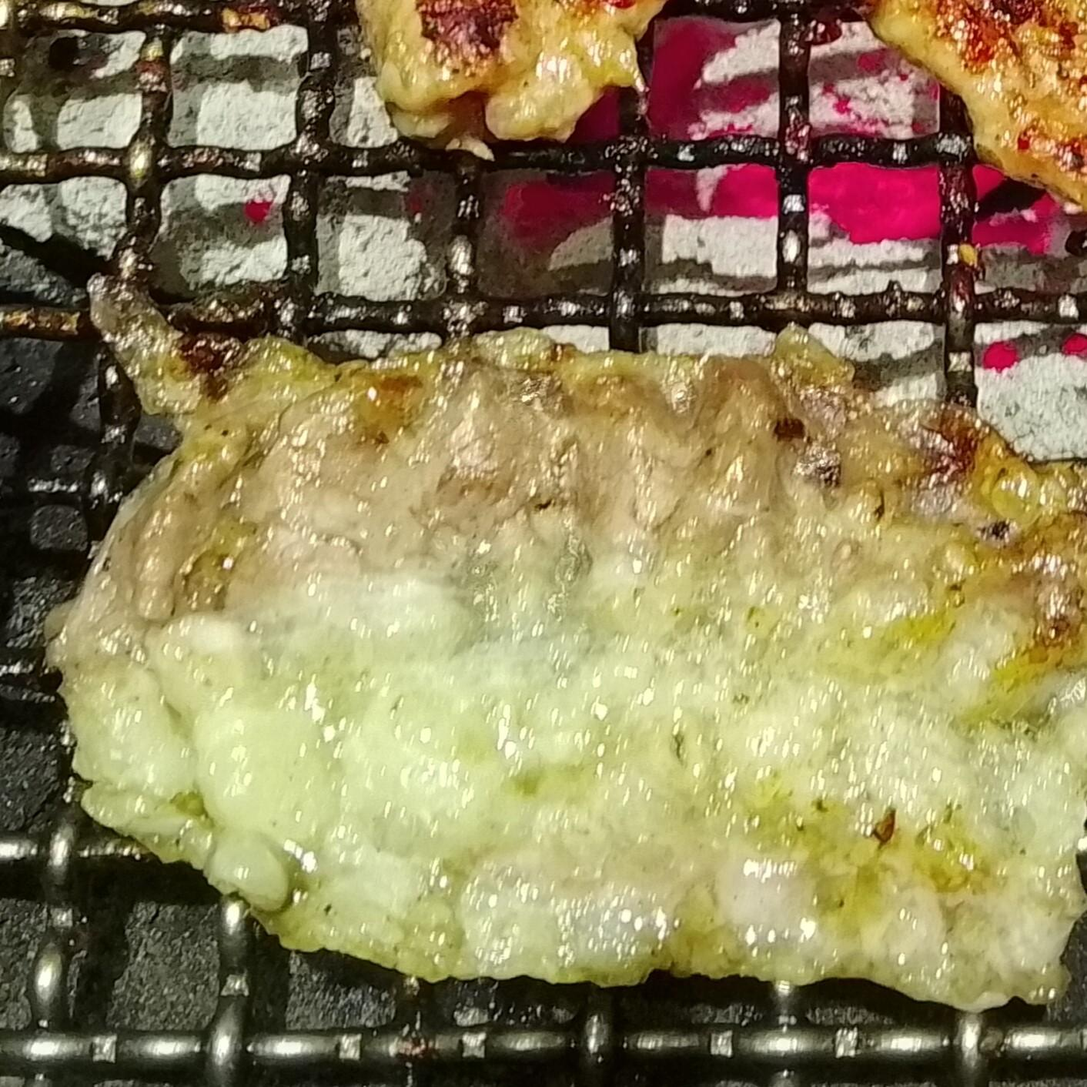Well-Cooked: (40, 262, 1086, 1024), (860, 0, 1086, 215), (355, 0, 670, 152)
